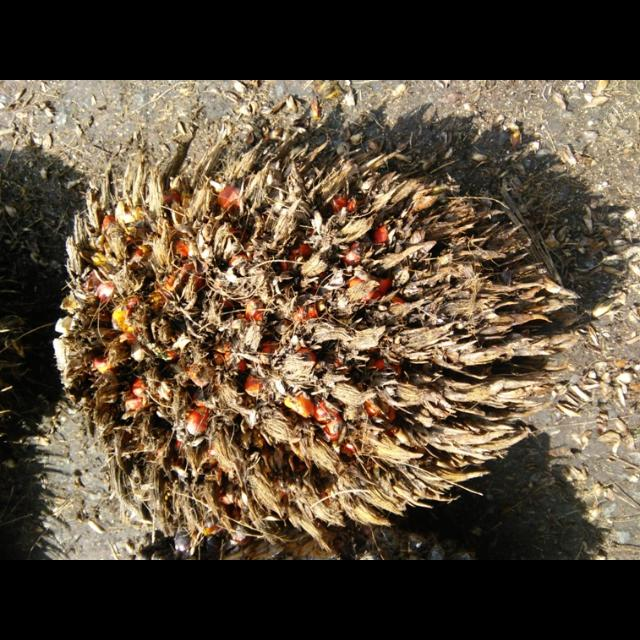Empty: (53, 110, 584, 542)
